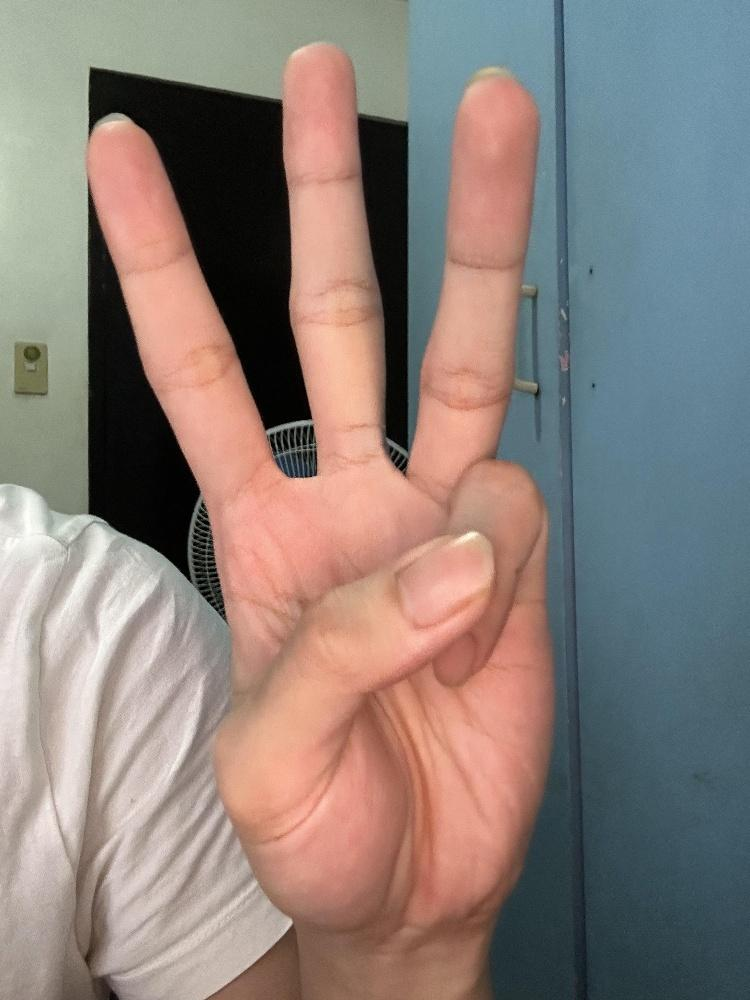w: (81, 33, 559, 938)
